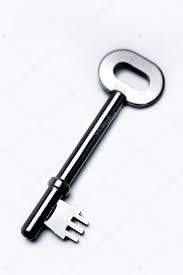key: (19, 46, 168, 245)
